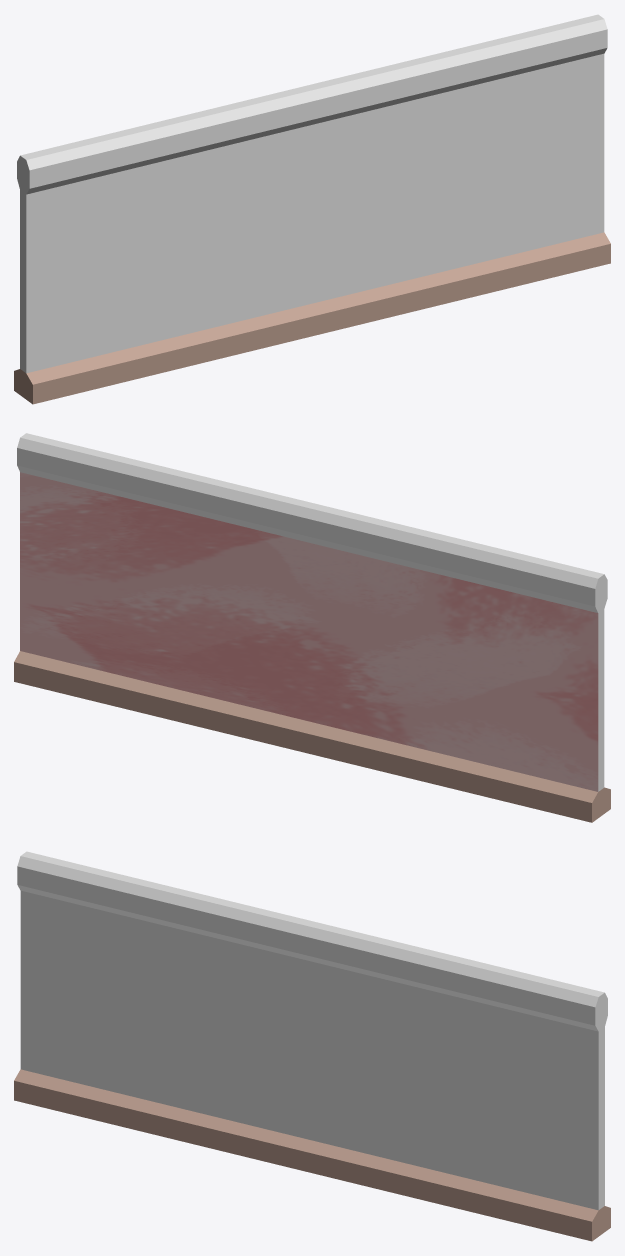
The model's file is outdoor_wall.fbx.
3 renders of one model, top to bottom at view 1: azimuth 30°, elevation 25°; view 2: azimuth 150°, elevation 25°; view 3: azimuth 330°, elevation 25°, orthographic.
Parts seen in each view (by area): view 1: pCube38; view 2: pCube38; view 3: pCube38.
Boxes of the visible parts, <box> form: pCube38: <box>14,14,610,404</box>; pCube38: <box>14,433,610,822</box>; pCube38: <box>14,851,610,1241</box>.
Size of the model in its own units: 9.87 by 3.91 by 0.5574.
3 materials, 1 textured.
